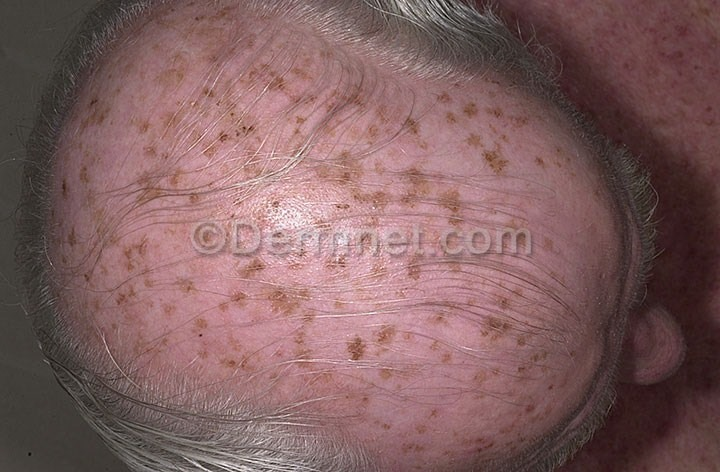Melasma: (95, 25, 521, 224), (55, 250, 521, 399)
